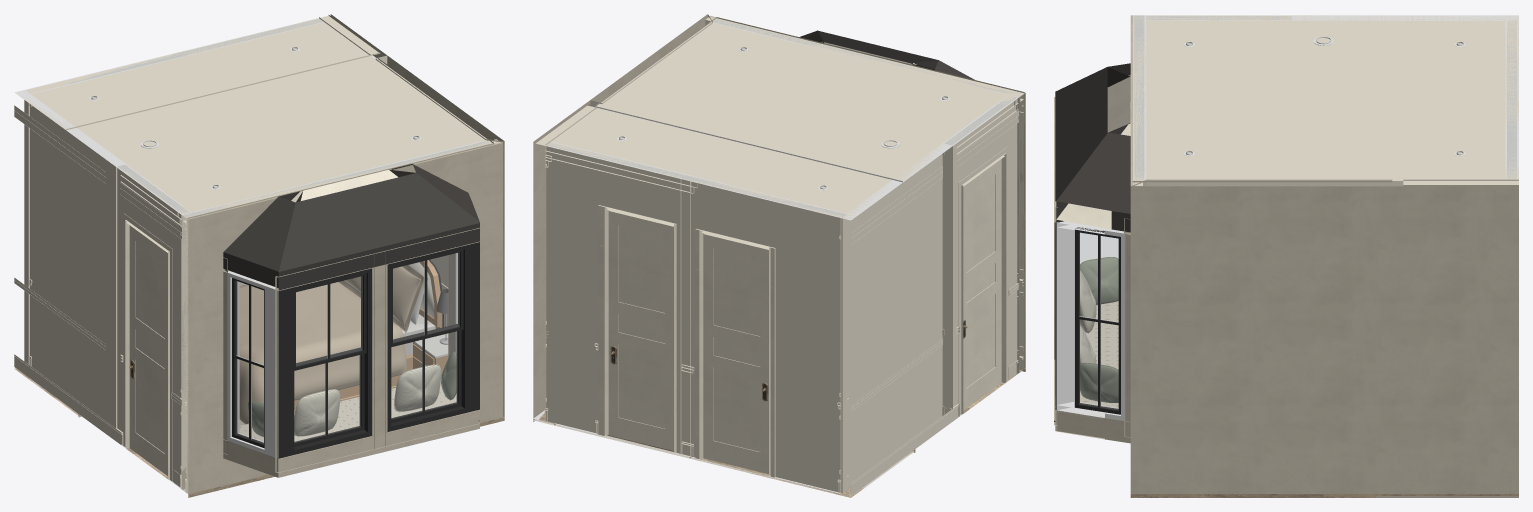
Rendered from loli-bedroom-b2ef938313cd.glb.
3 views of the same model, side by side, from view 1: azimuth 30°, elevation 25°; view 2: azimuth 150°, elevation 25°; view 3: azimuth 270°, elevation 25° (orthographic). The views are drawn at different scales.
Parts seen in each view (by area): view 1: loli-bedroom-dbd60ee5c3733ed6, loli-bedroom-93447d0fea18c81b, loli-bedroom-6a1144f4e43410bb, loli-bedroom-fd1c2425c72e98e4, loli-bedroom-daa4f3edc919433a, loli-bedroom-4cda501b4aaed82b, loli-bedroom-2575515a05775d9e, loli-bedroom-7cd33252cebb505d, loli-bedroom-527014f532f46c8e, loli-bedroom-cf6d22c5317ced0b, loli-bedroom-75b75731e5e739a5, loli-bedroom-68d06b361ac47823 (+21 smaller); view 2: loli-bedroom-0e637d2be41161fb, loli-bedroom-dbd60ee5c3733ed6, loli-bedroom-6a1144f4e43410bb, loli-bedroom-eceff908bd344cec, loli-bedroom-5b37b110dc0e2cdc, loli-bedroom-2575515a05775d9e, loli-bedroom-68d06b361ac47823, loli-bedroom-cf6d22c5317ced0b, loli-bedroom-319244b3406409d9, loli-bedroom-93447d0fea18c81b, loli-bedroom-d6b1bc8c737b28e2, loli-bedroom-8cbce1d8f2f8a576 (+14 smaller); view 3: loli-bedroom-592bd9af2ed71797, loli-bedroom-dbd60ee5c3733ed6, loli-bedroom-319244b3406409d9, loli-bedroom-2575515a05775d9e, loli-bedroom-53e6a9e479527da3, loli-bedroom-daa4f3edc919433a, loli-bedroom-131a246e00605616, loli-bedroom-d8b729a36612415b, loli-bedroom-93447d0fea18c81b, loli-bedroom-0e637d2be41161fb, loli-bedroom-ad11484878029c25, loli-bedroom-e0a3201bd49c7536 (+9 smaller).
Boxes of the visible parts, bbox=[...] form: loli-bedroom-dbd60ee5c3733ed6: bbox=[77, 54, 494, 218]; loli-bedroom-93447d0fea18c81b: bbox=[181, 140, 502, 494]; loli-bedroom-6a1144f4e43410bb: bbox=[14, 90, 125, 428]; loli-bedroom-fd1c2425c72e98e4: bbox=[279, 268, 371, 458]; loli-bedroom-daa4f3edc919433a: bbox=[278, 169, 479, 290]; loli-bedroom-4cda501b4aaed82b: bbox=[388, 242, 479, 431]; loli-bedroom-2575515a05775d9e: bbox=[17, 15, 380, 130]; loli-bedroom-7cd33252cebb505d: bbox=[239, 282, 406, 424]; loli-bedroom-527014f532f46c8e: bbox=[227, 271, 278, 458]; loli-bedroom-cf6d22c5317ced0b: bbox=[129, 225, 167, 475]; loli-bedroom-75b75731e5e739a5: bbox=[277, 264, 478, 477]; loli-bedroom-68d06b361ac47823: bbox=[116, 164, 190, 487]; loli-bedroom-0e637d2be41161fb: bbox=[545, 141, 847, 493]; loli-bedroom-dbd60ee5c3733ed6: bbox=[595, 17, 1024, 182]; loli-bedroom-6a1144f4e43410bb: bbox=[842, 143, 952, 495]; loli-bedroom-eceff908bd344cec: bbox=[608, 210, 673, 450]; loli-bedroom-5b37b110dc0e2cdc: bbox=[703, 233, 768, 474]; loli-bedroom-2575515a05775d9e: bbox=[535, 104, 892, 220]; loli-bedroom-68d06b361ac47823: bbox=[942, 96, 1018, 420]; loli-bedroom-cf6d22c5317ced0b: bbox=[963, 159, 1001, 410]; loli-bedroom-319244b3406409d9: bbox=[533, 100, 601, 419]; loli-bedroom-93447d0fea18c81b: bbox=[709, 15, 1025, 372]; loli-bedroom-d6b1bc8c737b28e2: bbox=[695, 228, 775, 477]; loli-bedroom-8cbce1d8f2f8a576: bbox=[961, 153, 1006, 414]; loli-bedroom-592bd9af2ed71797: bbox=[1130, 179, 1392, 493]; loli-bedroom-dbd60ee5c3733ed6: bbox=[1132, 15, 1403, 182]; loli-bedroom-319244b3406409d9: bbox=[1392, 179, 1518, 493]; loli-bedroom-2575515a05775d9e: bbox=[1403, 15, 1518, 186]; loli-bedroom-53e6a9e479527da3: bbox=[1056, 221, 1125, 421]; loli-bedroom-daa4f3edc919433a: bbox=[1055, 67, 1130, 221]; loli-bedroom-131a246e00605616: bbox=[1056, 124, 1130, 232]; loli-bedroom-d8b729a36612415b: bbox=[1055, 234, 1130, 443]; loli-bedroom-93447d0fea18c81b: bbox=[1130, 15, 1146, 185]; loli-bedroom-0e637d2be41161fb: bbox=[1505, 20, 1518, 179]; loli-bedroom-ad11484878029c25: bbox=[1147, 177, 1391, 186]; loli-bedroom-e0a3201bd49c7536: bbox=[1080, 301, 1118, 407].
Bounding box in the file's own units: 3.62 × 3.05 × 4.12.
43 materials, 9 textured.
